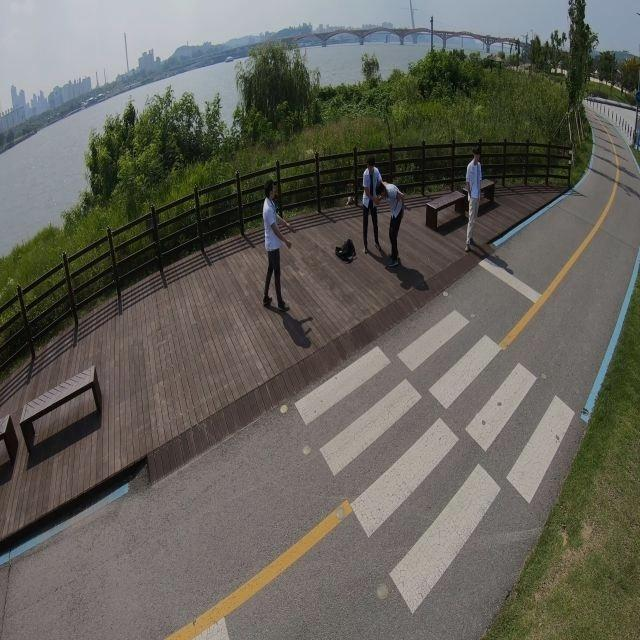non-fight: (264, 180, 296, 311), (376, 179, 406, 268), (362, 156, 384, 256), (463, 149, 483, 251)
